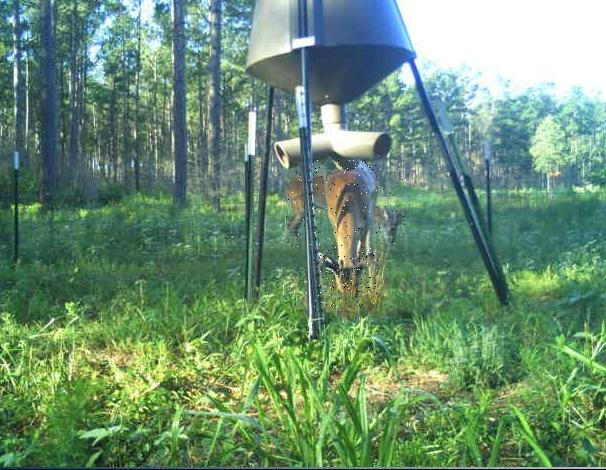Deer: (314, 160, 381, 308), (286, 172, 406, 248)
